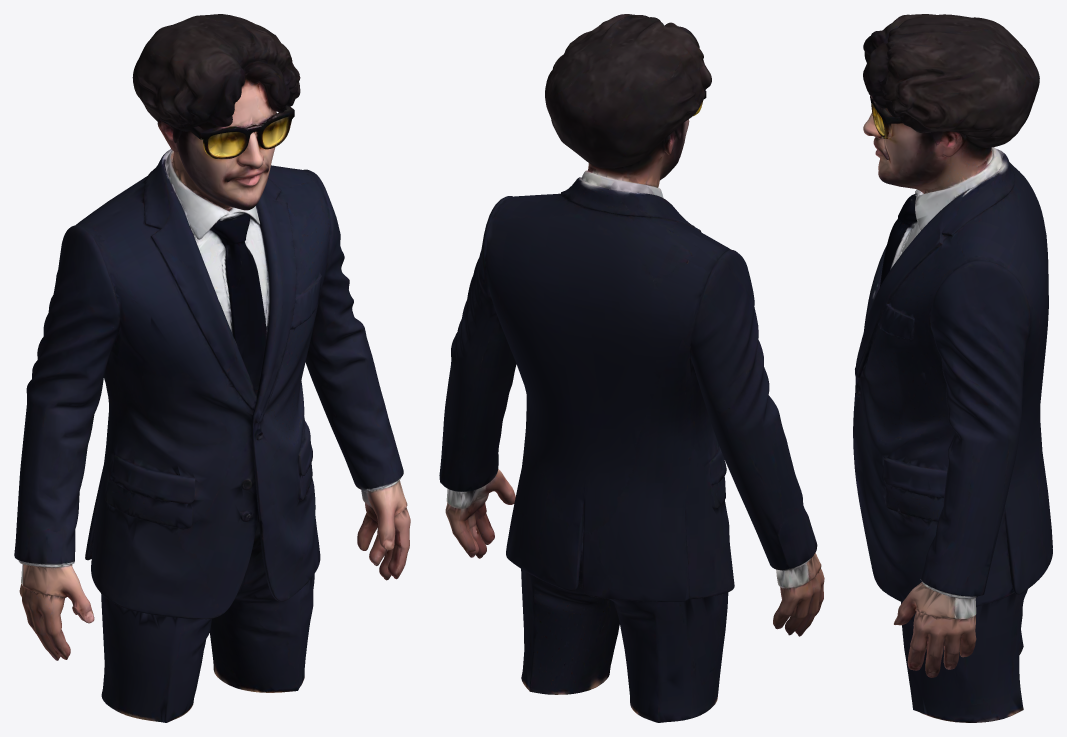
The model's file is persona.glb.
The picture shows the model from 3 angles, left to right: view 1: azimuth 30°, elevation 25°; view 2: azimuth 150°, elevation 25°; view 3: azimuth 270°, elevation 25°; orthographic projection. The views are drawn at different scales.
Parts seen in each view (by area): view 1: node_0; view 2: node_0; view 3: node_0.
Boxes of the visible parts, x1=… form: node_0: x1=14, y1=14, x2=410, y2=722; node_0: x1=439, y1=14, x2=824, y2=722; node_0: x1=853, y1=14, x2=1052, y2=722.
Size of the model in its own units: 0.6831 by 1.15 by 0.3169.
Materials: 1 (1 with a texture image).
